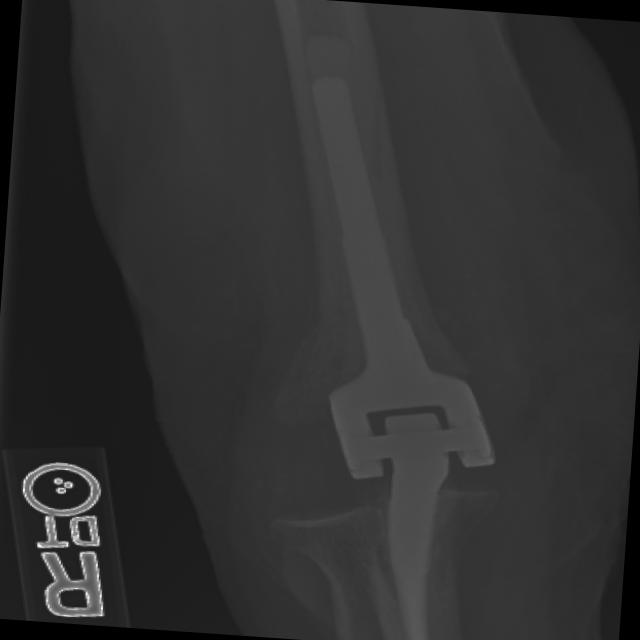elbow positive: (258, 275, 381, 417)
